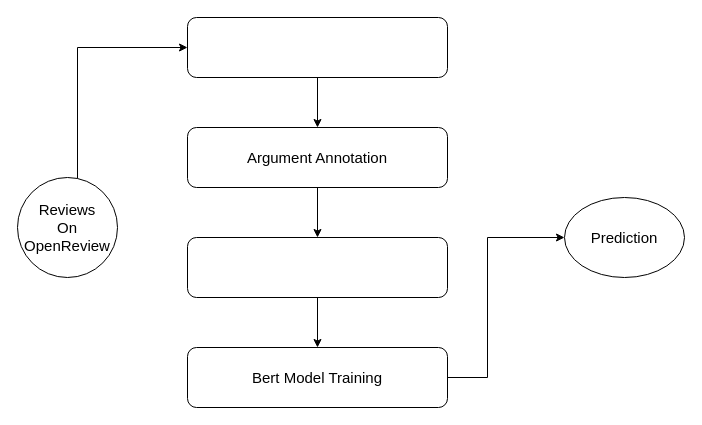
Image size: 702x425. Some labels were removed from this diagram. Here are the shapes that lost their labels. From the top down, the box of each, then its label:
(186, 16, 448, 78): Scrap and Clean Exploratory Analysis
(186, 236, 448, 298): Post Processing
